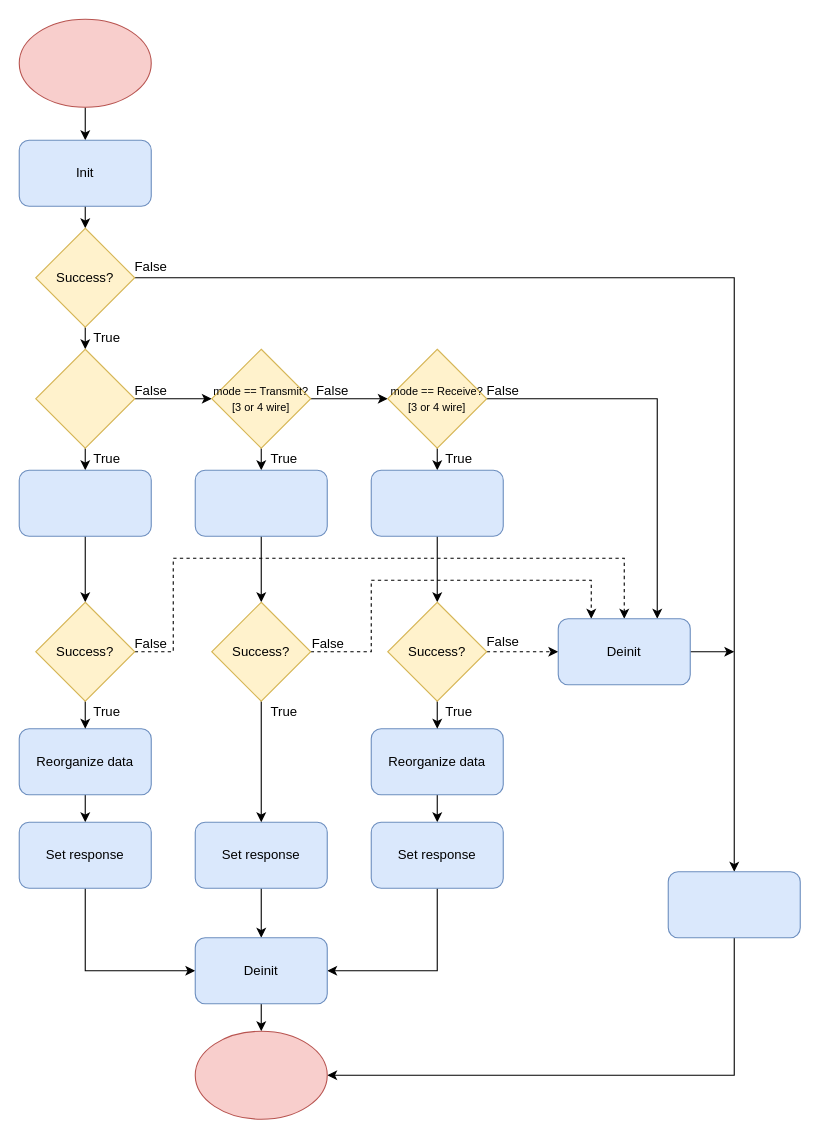
This 820x1139 diagram has some shape labels left out. The shapes that lost their labels are listed below. From the top down, each one's centre as x and y in pixels, then its label:
[84,62]: Start
[85,398]: mode == FullDuplex?
[84,502]: Transmit/Receive
[260,502]: Transmit
[436,502]: Receive
[733,904]: Error handler
[260,1074]: Stop
